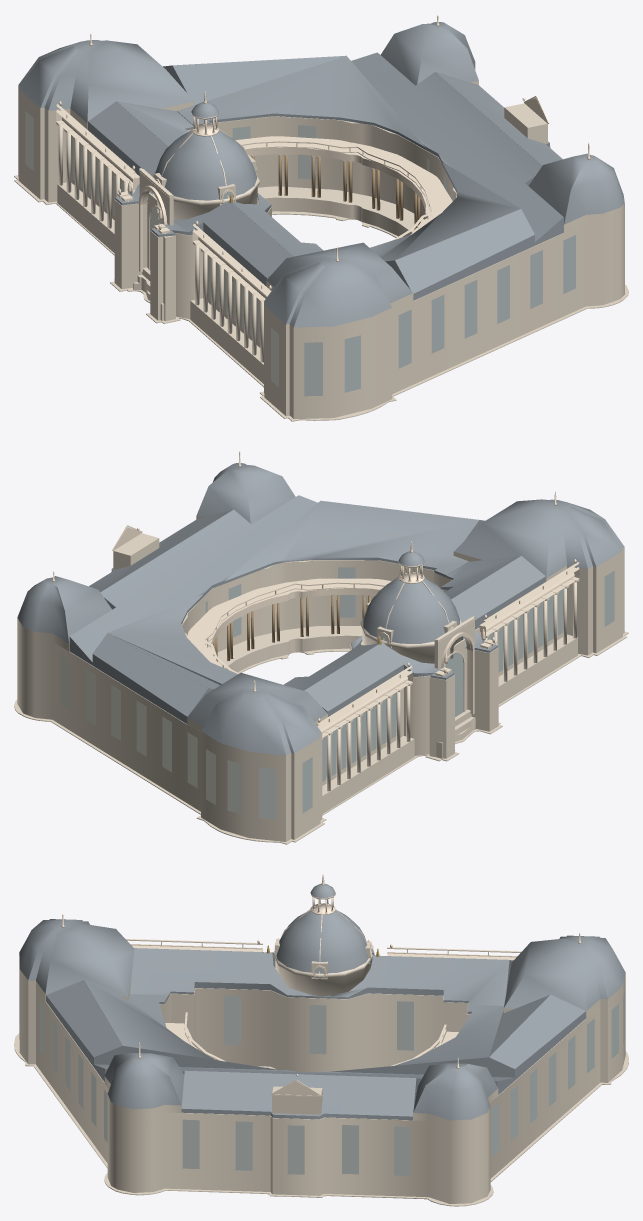
3 renders of one model, top to bottom at view 1: azimuth 30°, elevation 25°; view 2: azimuth 150°, elevation 25°; view 3: azimuth 270°, elevation 25°, orthographic. The views are drawn at different scales.
Visible parts, largest first — view 1: roof, stone, trim, window, glass; view 2: roof, stone, window, trim, glass; view 3: roof, stone, window, trim.
Boxes of the visible parts, x1,y1,x2,y2 form: roof: (18,22,624,327); stone: (14,63,628,421); trim: (56,14,590,303); window: (25,111,575,396); glass: (251,154,420,229); roof: (17,463,624,755); stone: (14,515,628,844); window: (60,567,614,819); trim: (52,451,579,739); glass: (213,595,370,661); roof: (19,883,625,1120); stone: (14,938,628,1206); window: (19,967,624,1175); trim: (61,873,581,1096).
Size of the model in its own units: 93.24 by 42 by 130.
